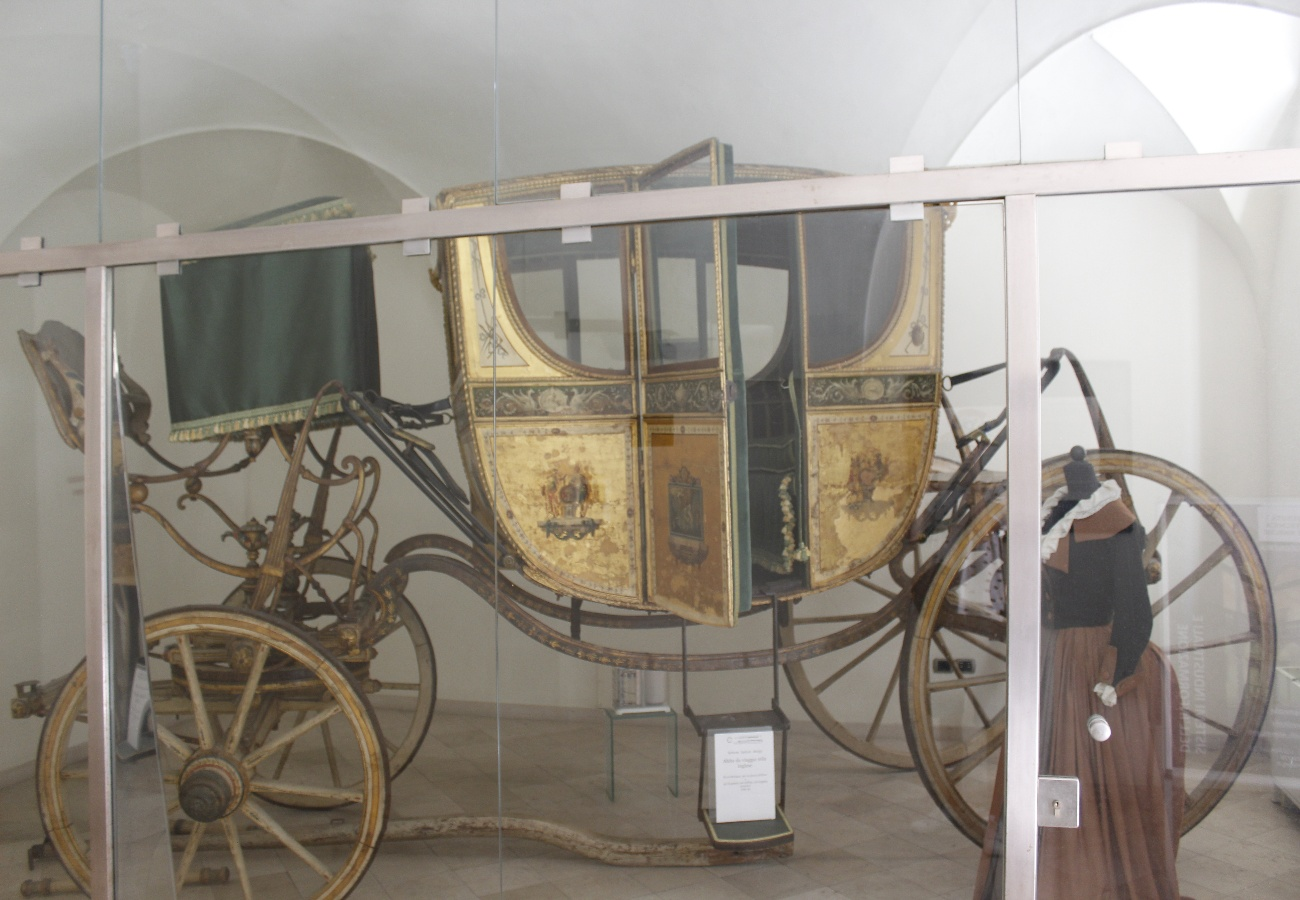Berlina Mosca: (36, 145, 1278, 893)
